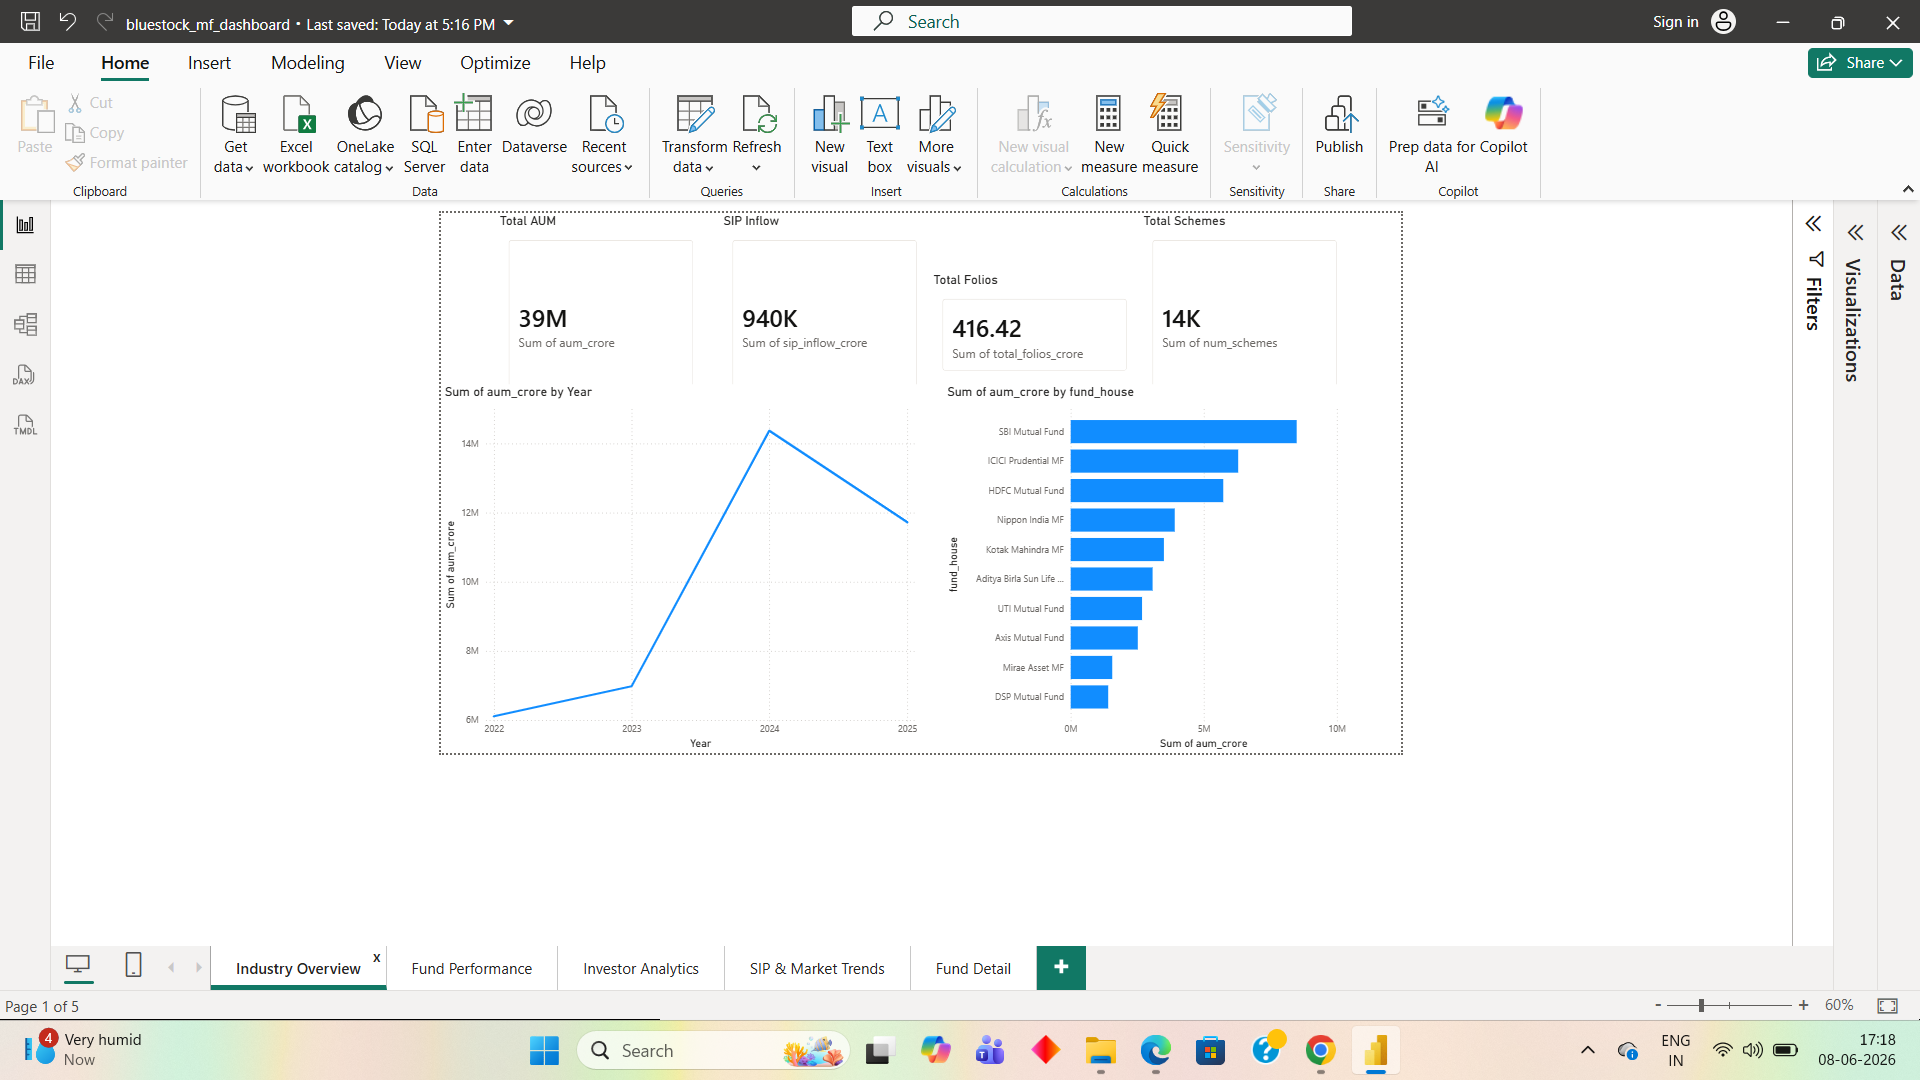

The dashboard page shown, as its layout file describes it:
{"tool":"powerbi","page":{"name":"Industry Overview","canvas":[1280,720],"ordinal":0},"visuals":[{"type":"cardVisual","title":"Total AUM","fields":{"Data":["Sum(03_aum_by_fund_house_clean.aum_crore)"]},"box":[73.3,0,280,280],"z":0},{"type":"cardVisual","title":"SIP Inflow","fields":{"Data":["Sum(04_monthly_sip_inflows_clean.sip_inflow_crore)"]},"box":[371.7,0,280,280],"z":1000},{"type":"cardVisual","title":"Total Folios","fields":{"Data":["Sum(06_industry_folio_count_clean.total_folios_crore)"]},"box":[651.7,78.3,280,150],"z":2000},{"type":"cardVisual","title":"Total Schemes","fields":{"Data":["Sum(03_aum_by_fund_house_clean.num_schemes)"]},"box":[931.7,0,280,280],"z":3000},{"type":"lineChart","fields":{"Category":["03_aum_by_fund_house_clean.date.Variation.Date Hierarchy.Year","03_aum_by_fund_house_clean.date.Variation.Date Hierarchy.Quarter","03_aum_by_fund_house_clean.date.Variation.Date Hierarchy.Month","03_aum_by_fund_house_clean.date.Variation.Date Hierarchy.Day"],"Y":["Sum(03_aum_by_fund_house_clean.aum_crore)"]},"box":[0,228.3,640,491.7],"z":4000},{"type":"clusteredBarChart","fields":{"Y":["Sum(03_aum_by_fund_house_clean.aum_crore)"],"Category":["03_aum_by_fund_house_clean.fund_house"]},"box":[670,228.3,541.7,491.7],"z":5000}]}

Visuals, with their boxes on the page's 1280x720 design canvas (x1, y1, x2, y2). These are canvas units, not pixel positions in the 1920x1080 screenshot, which may show the page scaled, cropped or inside an application window:
"Total AUM" cardVisual: x1=73, y1=0, x2=353, y2=280
"SIP Inflow" cardVisual: x1=372, y1=0, x2=652, y2=280
"Total Folios" cardVisual: x1=652, y1=78, x2=932, y2=228
"Total Schemes" cardVisual: x1=932, y1=0, x2=1212, y2=280
lineChart - 03_aum_by_fund_house_clean.date.Variation.Date Hierarchy.Year x 03_aum_by_fund_house_clean.date.Variation.Date Hierarchy.Quarter: x1=0, y1=228, x2=640, y2=720
clusteredBarChart - Sum(03_aum_by_fund_house_clean.aum_crore) x 03_aum_by_fund_house_clean.fund_house: x1=670, y1=228, x2=1212, y2=720
